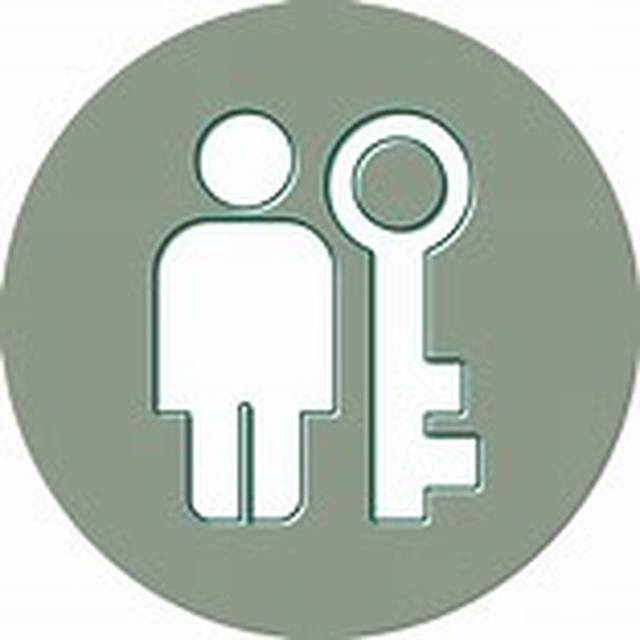key: (328, 93, 487, 544)
